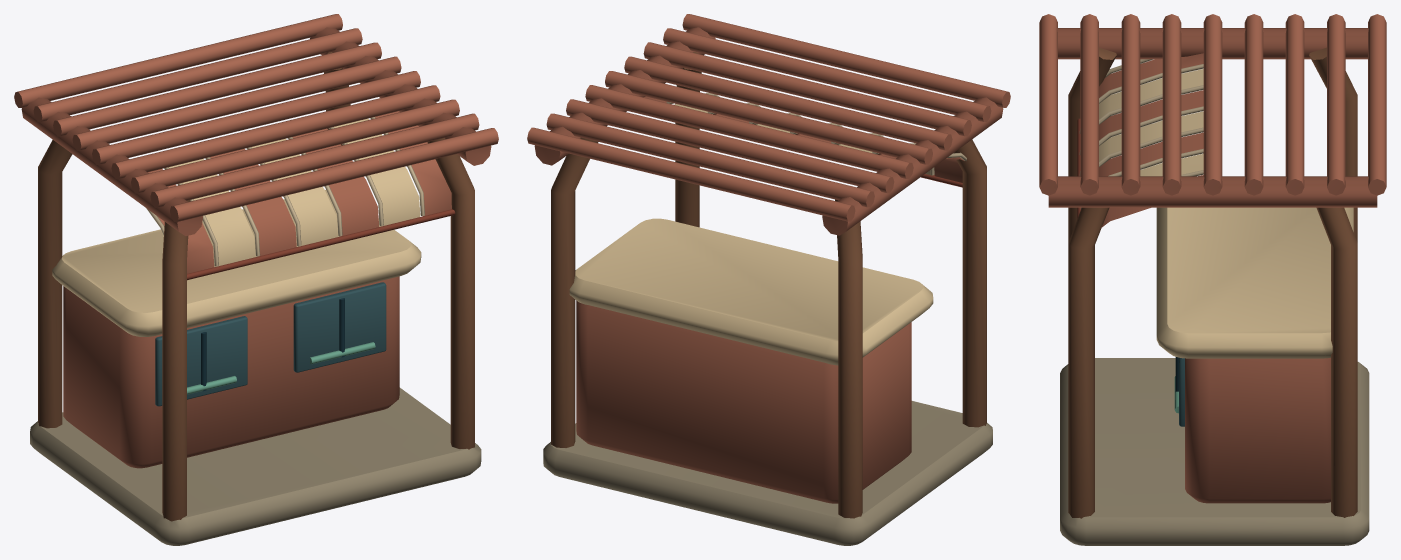
The model's file is annex_restaurant_4.glb.
The picture shows the model from 3 angles, left to right: view 1: azimuth 30°, elevation 25°; view 2: azimuth 150°, elevation 25°; view 3: azimuth 270°, elevation 25°; orthographic projection. The views are drawn at different scales.
Visible parts, largest first — view 1: Annex_restaurant_4; view 2: Annex_restaurant_4; view 3: Annex_restaurant_4.
Boxes of the visible parts, x1,y1,x2,y2 form: Annex_restaurant_4: (14, 14, 498, 545); Annex_restaurant_4: (527, 14, 1010, 545); Annex_restaurant_4: (1039, 14, 1386, 545).
Size of the model in its own units: 2.24 by 2.32 by 1.98.
